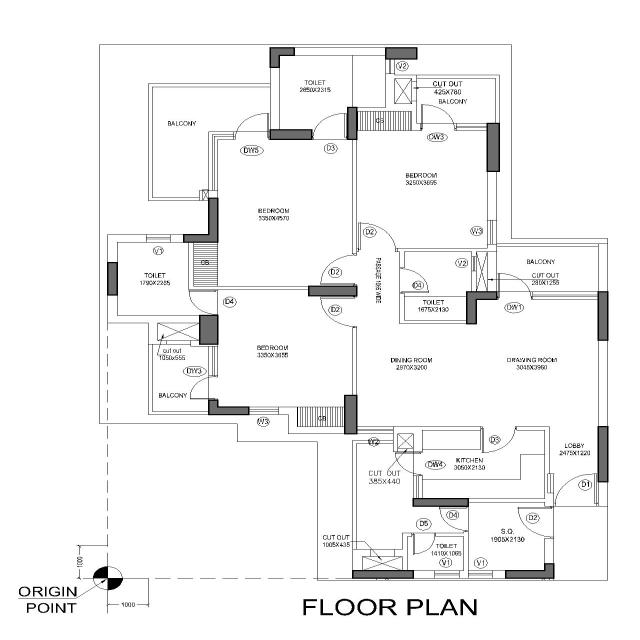Column: (181, 196, 223, 243), (464, 289, 502, 326), (502, 561, 558, 580), (596, 424, 612, 484), (197, 312, 221, 348), (208, 398, 252, 417), (485, 122, 501, 174), (306, 284, 359, 299), (350, 568, 416, 580), (412, 496, 471, 509), (596, 290, 610, 342), (342, 394, 358, 436), (268, 46, 296, 68), (104, 260, 120, 298), (268, 128, 314, 141), (384, 46, 421, 60), (346, 105, 358, 142)
Door: (542, 504, 558, 540), (310, 128, 350, 142), (552, 500, 600, 508), (354, 246, 400, 254), (351, 252, 359, 288), (351, 294, 358, 330), (464, 505, 471, 535), (213, 288, 220, 318), (399, 266, 405, 295), (477, 426, 520, 430), (410, 532, 438, 538)
Ventilator: (432, 569, 461, 580), (145, 233, 173, 244), (383, 55, 397, 76), (467, 570, 494, 580), (470, 255, 478, 273)
Window: (355, 425, 395, 436), (485, 217, 500, 246), (247, 404, 280, 417)
